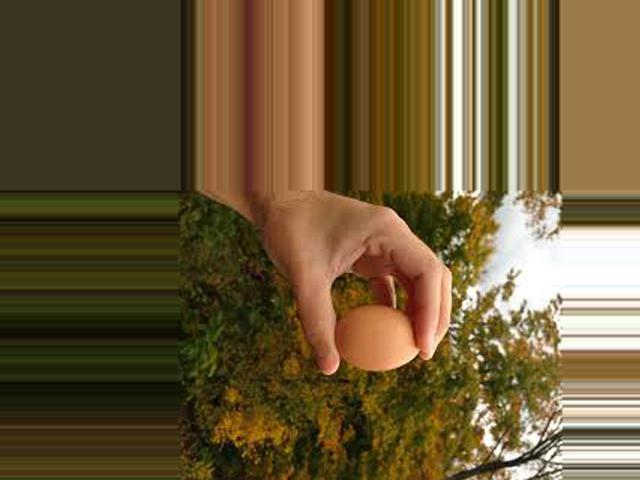egg: (333, 306, 420, 370)
